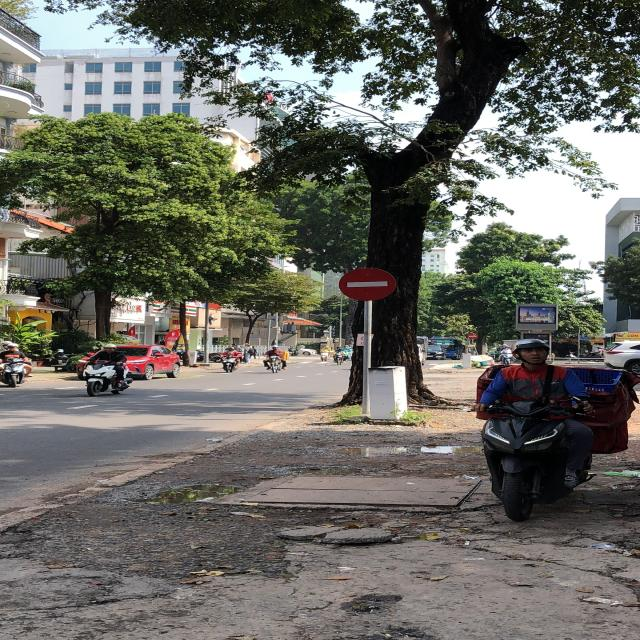Bien bao cam di nguoc chieu: (338, 263, 399, 306)
